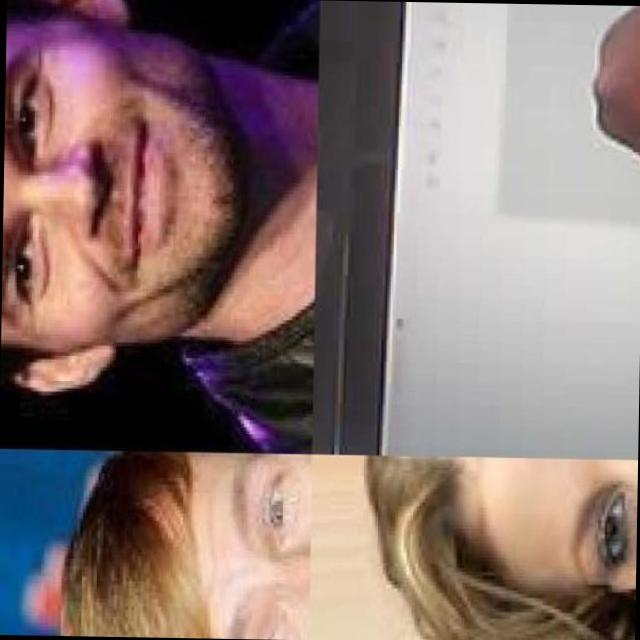bareface: (8, 53, 235, 352)
